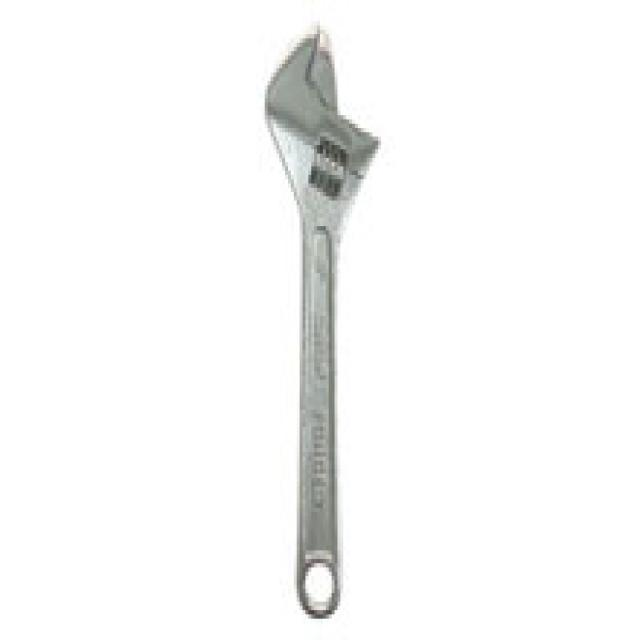wrench: (253, 15, 392, 622)
